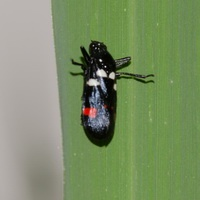insect: (71, 41, 153, 145)
